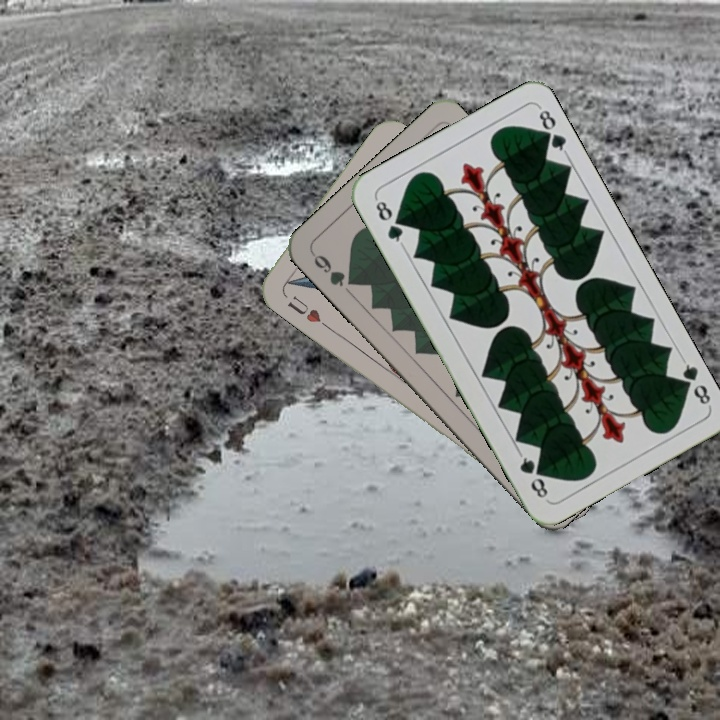G8: (673, 355, 714, 409), (371, 194, 407, 249)
G9: (307, 249, 360, 290)
HU: (283, 291, 323, 325)
